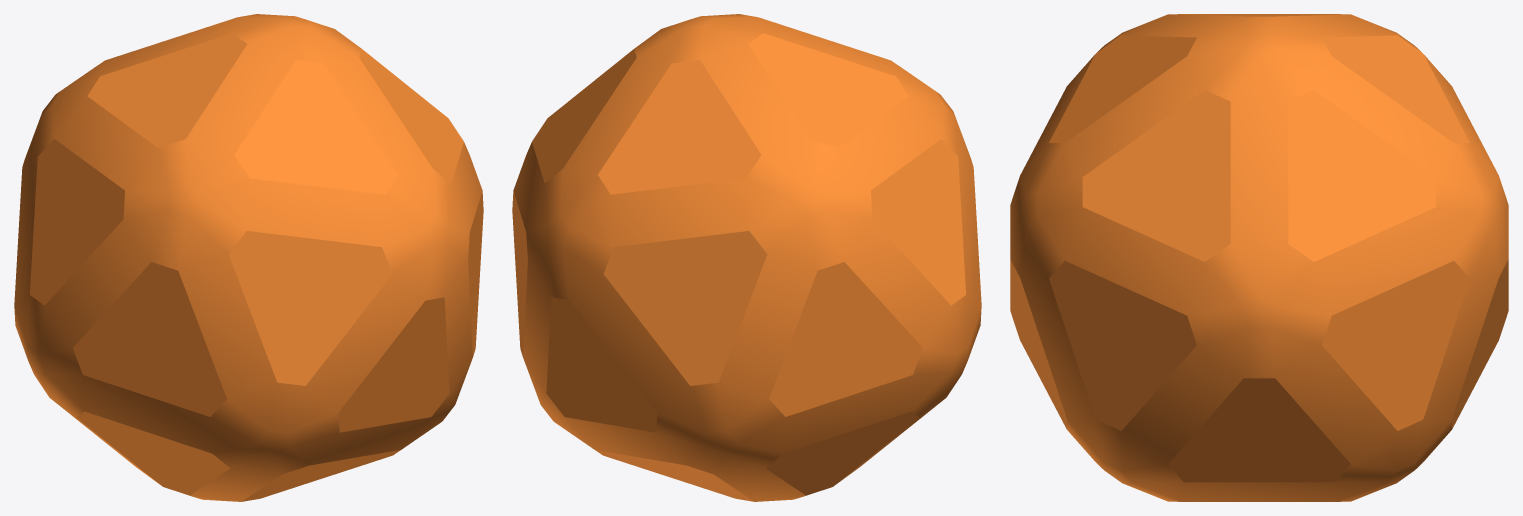
File: YK_Gyro_Sphere.obj
3 views of the same model, side by side, from view 1: azimuth 30°, elevation 25°; view 2: azimuth 150°, elevation 25°; view 3: azimuth 270°, elevation 25° (orthographic). The views are drawn at different scales.
Visible parts, largest first — view 1: m_BF_Gyro_AllAxis_Passive_111_Sphere_Instance.000; view 2: m_BF_Gyro_AllAxis_Passive_111_Sphere_Instance.000; view 3: m_BF_Gyro_AllAxis_Passive_111_Sphere_Instance.000.
Boxes of the visible parts, x1=… form: m_BF_Gyro_AllAxis_Passive_111_Sphere_Instance.000: x1=14, y1=14, x2=483, y2=501; m_BF_Gyro_AllAxis_Passive_111_Sphere_Instance.000: x1=512, y1=14, x2=981, y2=501; m_BF_Gyro_AllAxis_Passive_111_Sphere_Instance.000: x1=1010, y1=14, x2=1508, y2=501.
Bounding box in the file's own units: 0.469 × 0.469 × 0.438.
